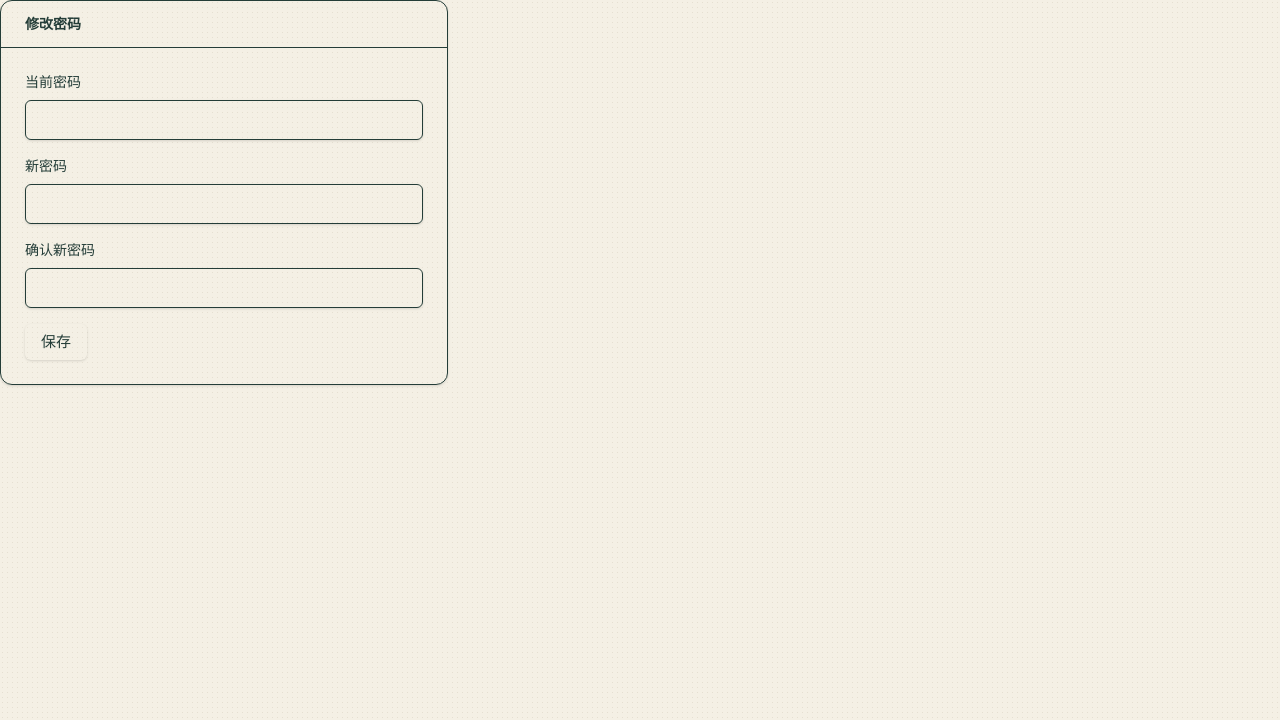
Test: validates required fields before submitting
Click the button "保存".
click(56, 342)  # box left=25, top=324, right=87, bottom=360
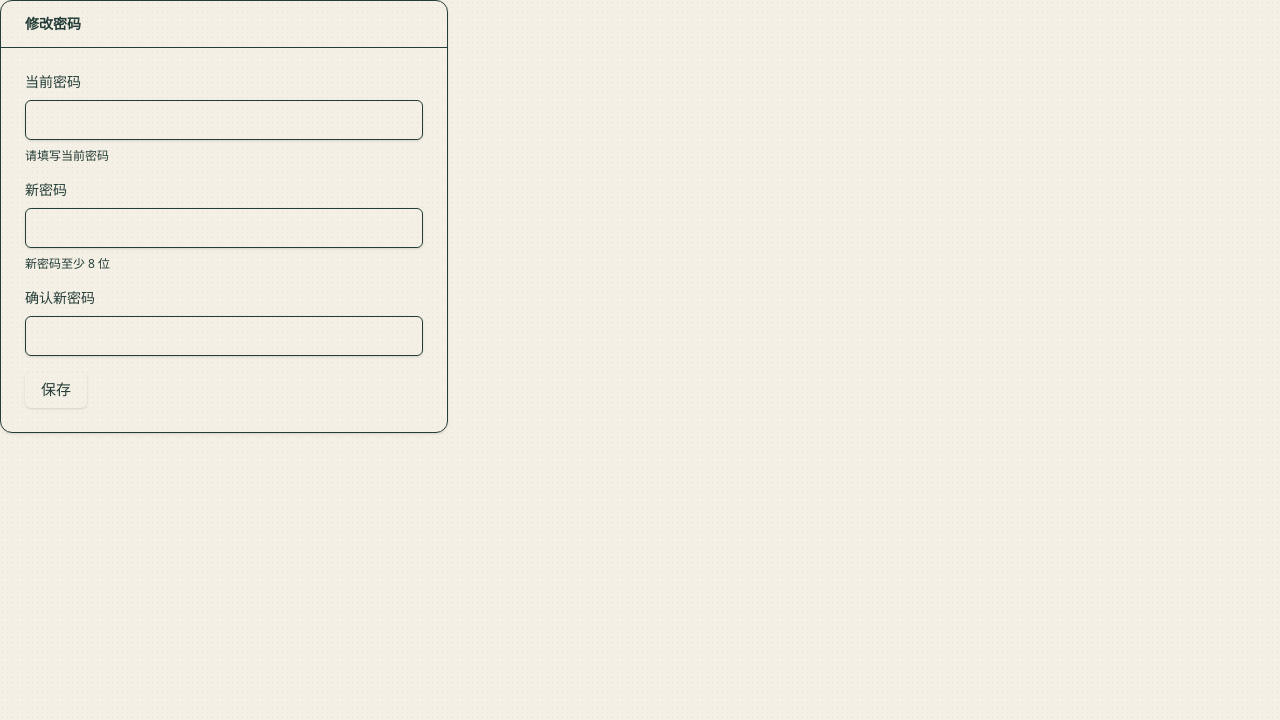
Check: the text "请填写当前密码" is shown, box left=25, top=147, right=109, bottom=164
Check: the text "新密码至少 8 位" is shown, box left=25, top=255, right=110, bottom=272
